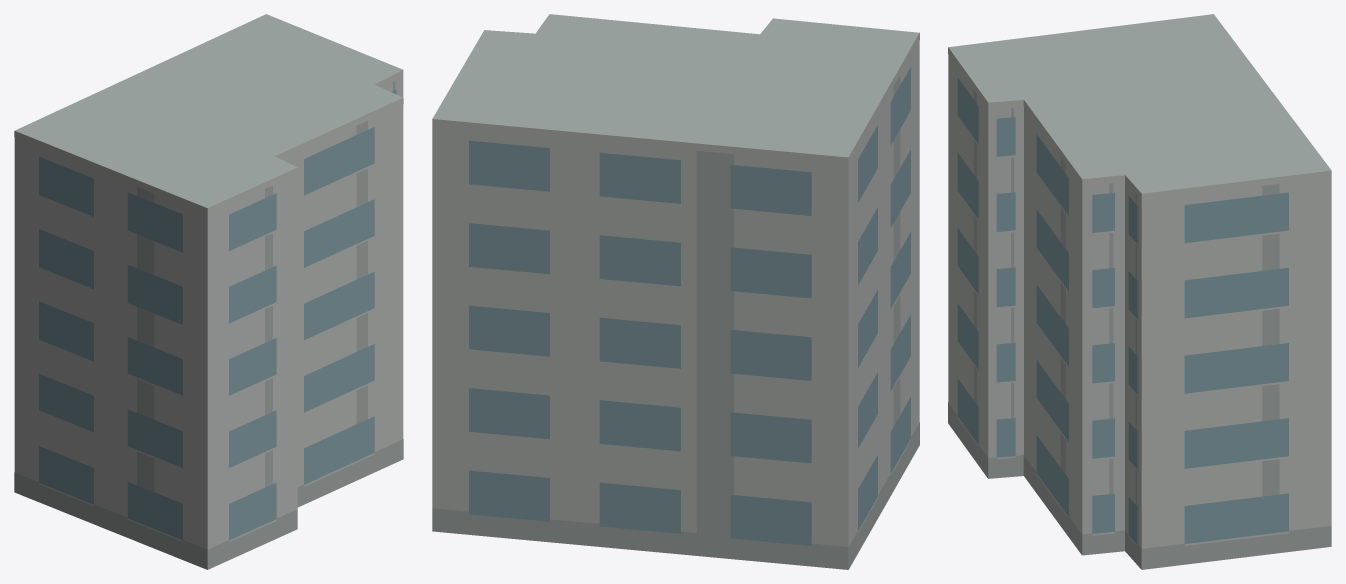
File: survey-upis-32852295.glb
The picture shows the model from 3 angles, left to right: view 1: azimuth 30°, elevation 25°; view 2: azimuth 150°, elevation 25°; view 3: azimuth 270°, elevation 25°; orthographic projection. The views are drawn at different scales.
Visible parts, largest first — view 1: survey-upis-32852295.tmp; view 2: survey-upis-32852295.tmp; view 3: survey-upis-32852295.tmp.
Boxes of the visible parts, <box> form: survey-upis-32852295.tmp: <box>14,14,403,569</box>; survey-upis-32852295.tmp: <box>432,14,919,569</box>; survey-upis-32852295.tmp: <box>948,14,1331,569</box>.
Size of the model in its own units: 13.53 by 13.2 by 12.2.
